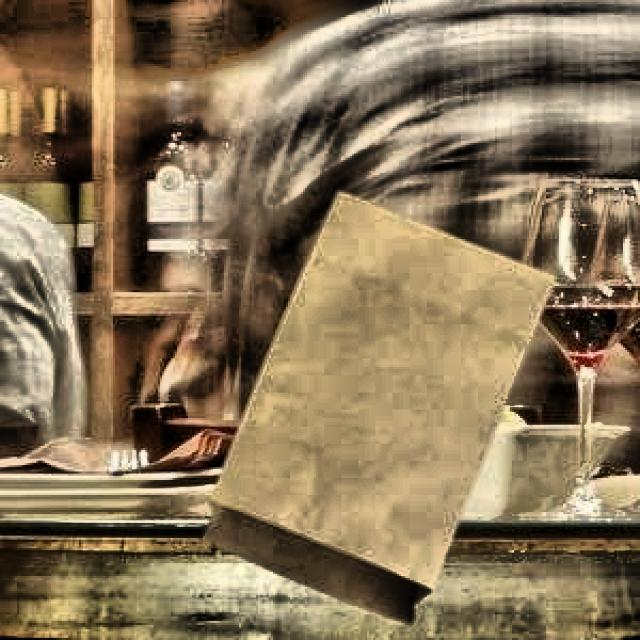Paper-bag: (174, 180, 558, 631)
